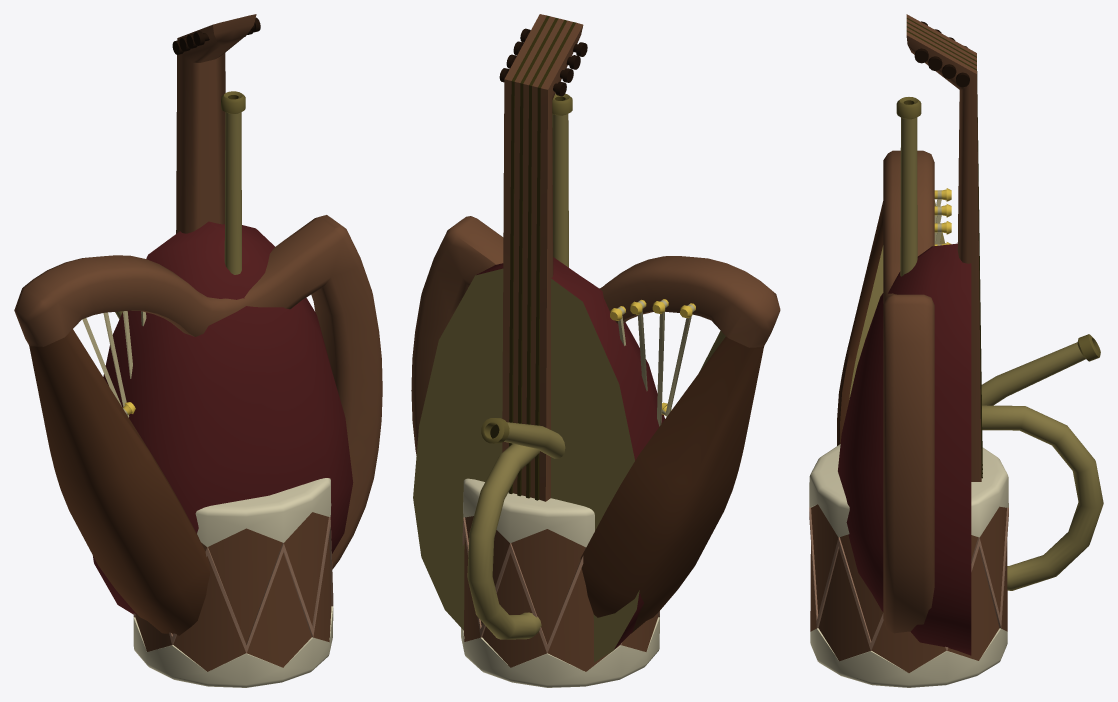
Rendered from Musical.fbx.
3 renders of one model, left to right at view 1: azimuth 30°, elevation 25°; view 2: azimuth 150°, elevation 25°; view 3: azimuth 270°, elevation 25°, orthographic.
Parts seen in each view (by area): view 1: Harp, Lute, Drum01, Trumpet02A; view 2: Lute, Harp, Drum01, Trumpet01A, Trumpet02A; view 3: Lute, Harp, Drum01, Trumpet01A, Trumpet02A.
Boxes of the visible parts, x1,y1,x2,y2 form: Harp: [14, 215, 382, 635]; Lute: [93, 14, 353, 614]; Drum01: [133, 478, 333, 687]; Trumpet02A: [221, 91, 245, 274]; Lute: [413, 14, 664, 662]; Harp: [411, 216, 780, 633]; Drum01: [461, 478, 659, 687]; Trumpet01A: [467, 418, 565, 639]; Trumpet02A: [552, 93, 572, 267]; Lute: [838, 14, 982, 655]; Harp: [837, 150, 951, 633]; Drum01: [809, 444, 1008, 687]; Trumpet01A: [981, 334, 1103, 590]; Trumpet02A: [896, 97, 921, 276].
Size of the model in its own units: 0.6311 by 1.07 by 0.458.
